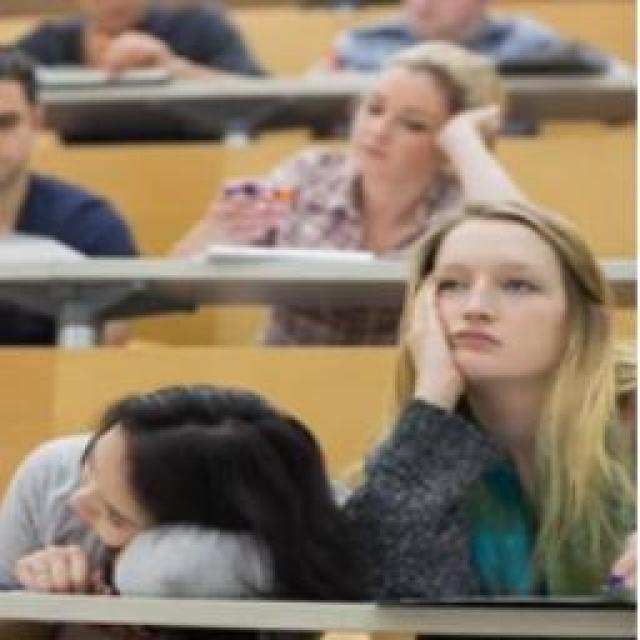sleep: (0, 380, 332, 600)
